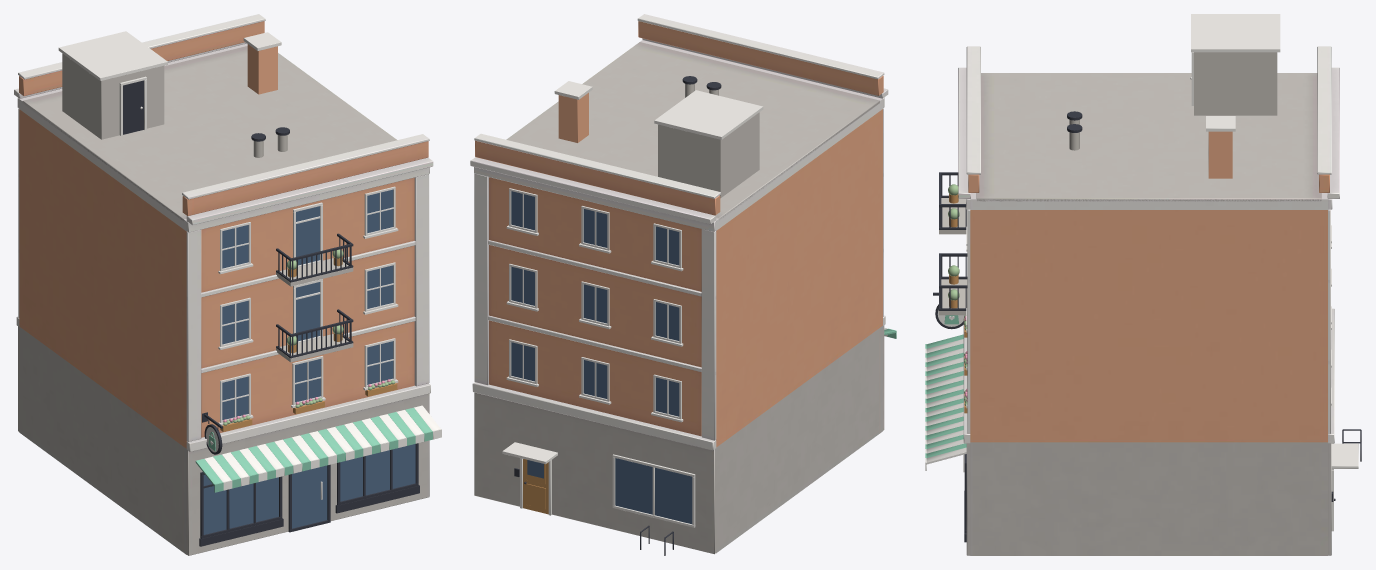
File: city-block-filler.glb
3 views of the same model, side by side, from view 1: azimuth 30°, elevation 25°; view 2: azimuth 150°, elevation 25°; view 3: azimuth 270°, elevation 25° (orthographic). The views are drawn at different scales.
Parts seen in each view (by area): view 1: city-block-filler_body, city-block-filler_details, city-block-filler_windows; view 2: city-block-filler_body, city-block-filler_details, city-block-filler_windows; view 3: city-block-filler_body, city-block-filler_details.
Boxes of the visible parts, left/top/right/bottom form: city-block-filler_body: left=14, top=14, right=433, bottom=555; city-block-filler_details: left=58, top=31, right=441, bottom=546; city-block-filler_windows: left=218, top=186, right=398, bottom=431; city-block-filler_body: left=470, top=14, right=888, bottom=554; city-block-filler_details: left=502, top=76, right=896, bottom=555; city-block-filler_windows: left=506, top=188, right=683, bottom=422; city-block-filler_body: left=958, top=46, right=1339, bottom=555; city-block-filler_details: left=925, top=14, right=1361, bottom=542.
Size of the model in its own units: 10 by 15.72 by 14.63.
Materials: 15 (1 with a texture image).
